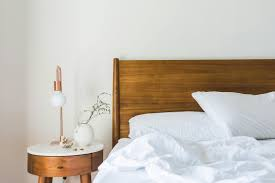bed-matress: (85, 127, 275, 183)
